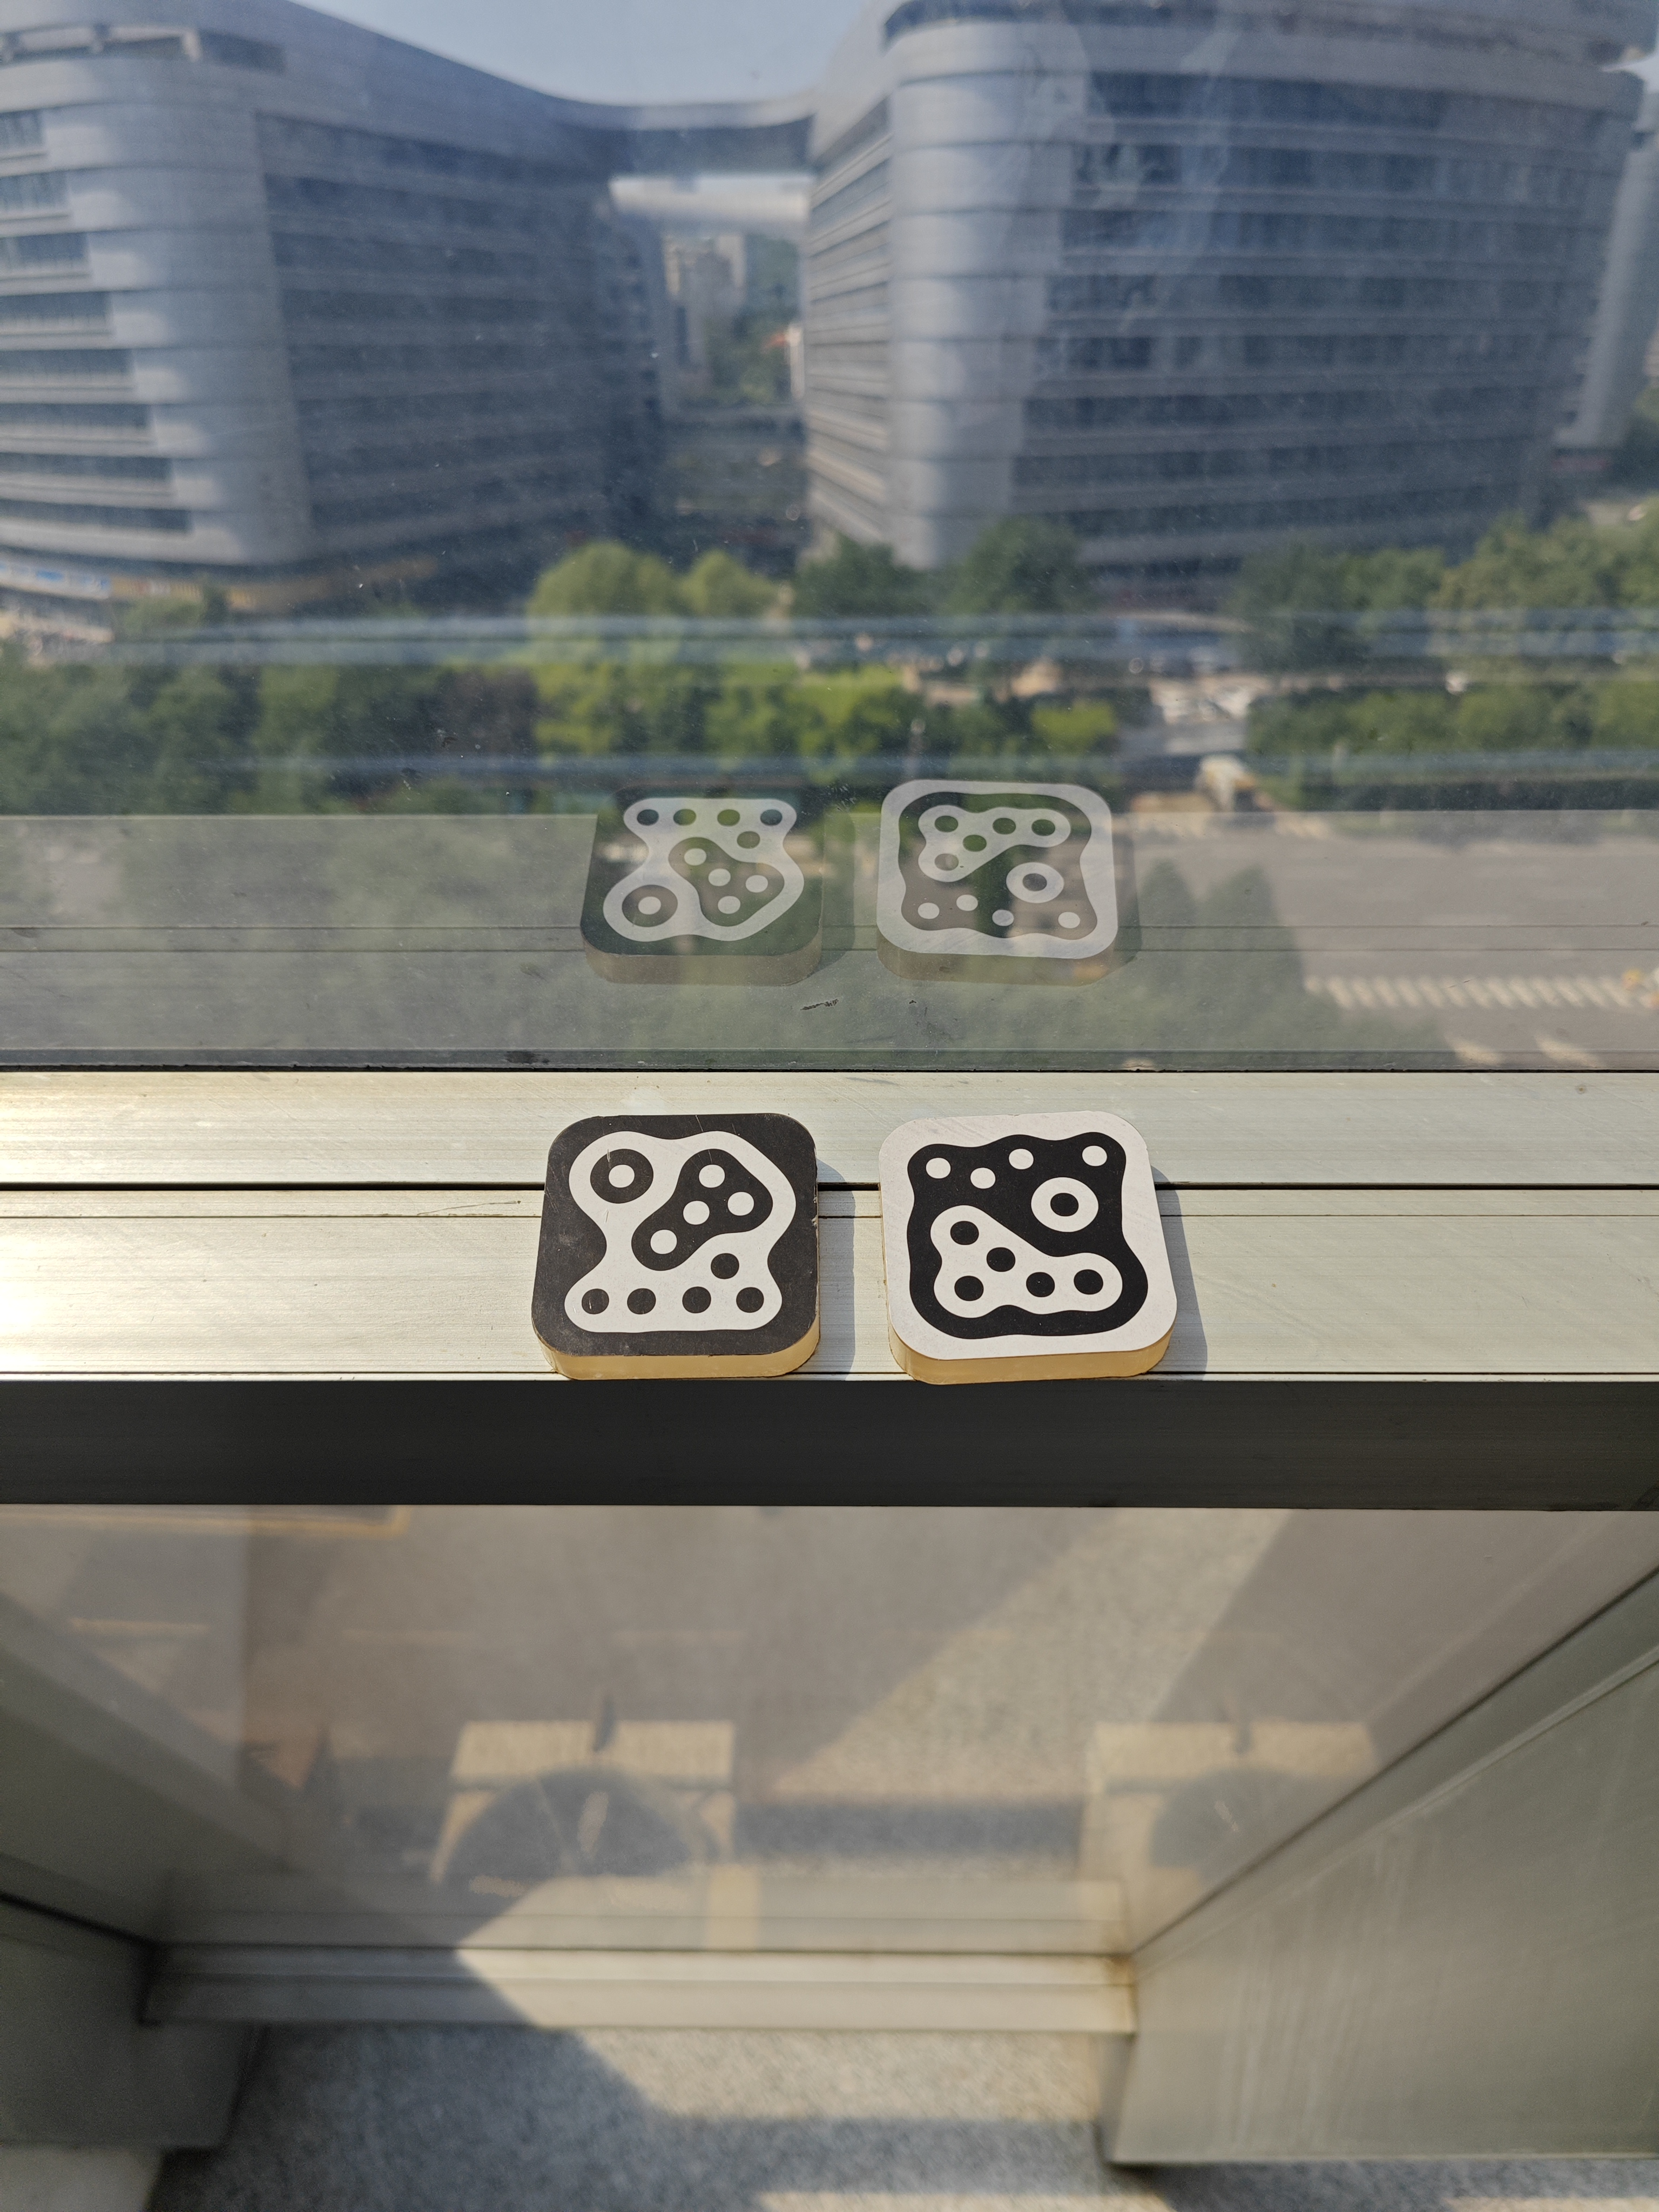mark1: (906, 1129, 1152, 1338)
mark2: (561, 1122, 800, 1345)
